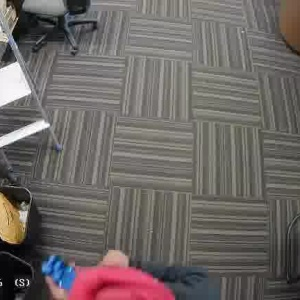person: (42, 253, 211, 300)
